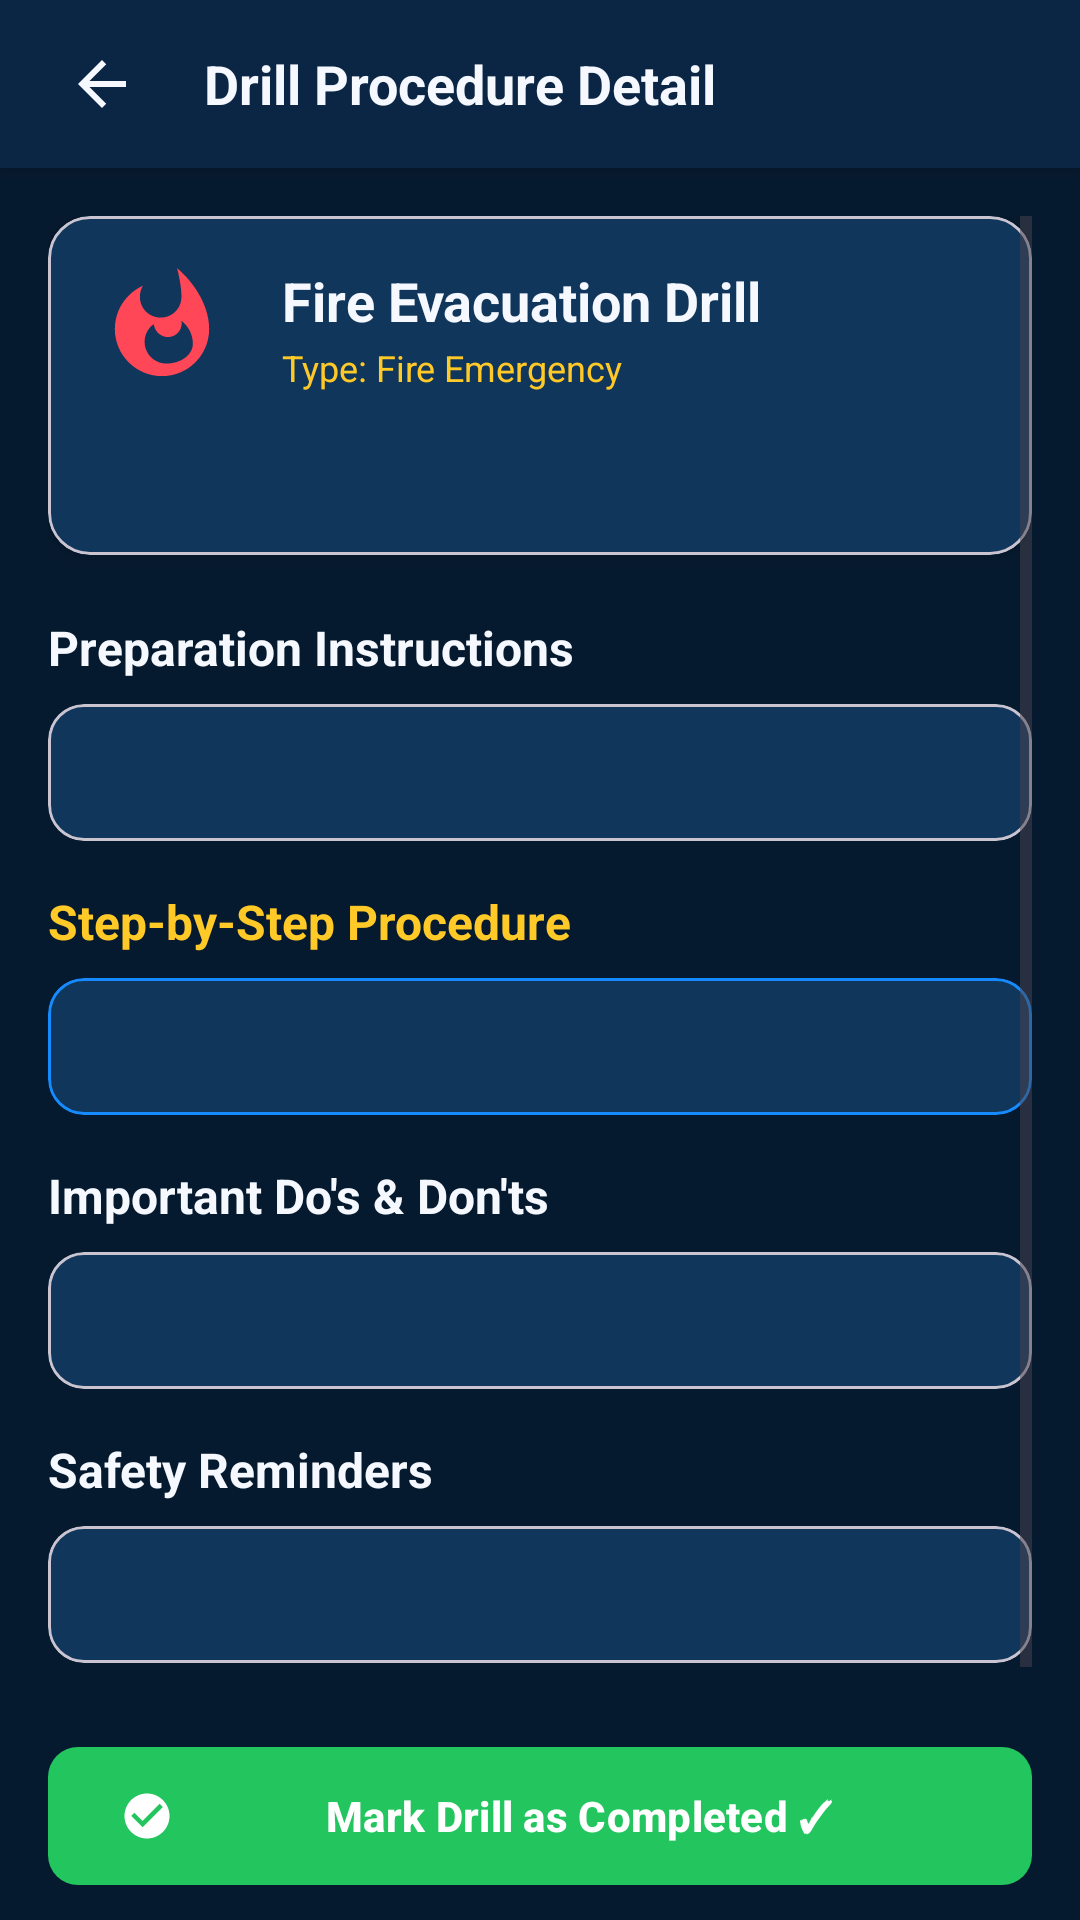

Named icons in this screenshot (1080 x 1920) and their bounding boxes, [left=x1, top=y1, right=x2, bottom=y2]:
Back: [left=78, top=60, right=126, bottom=108]
